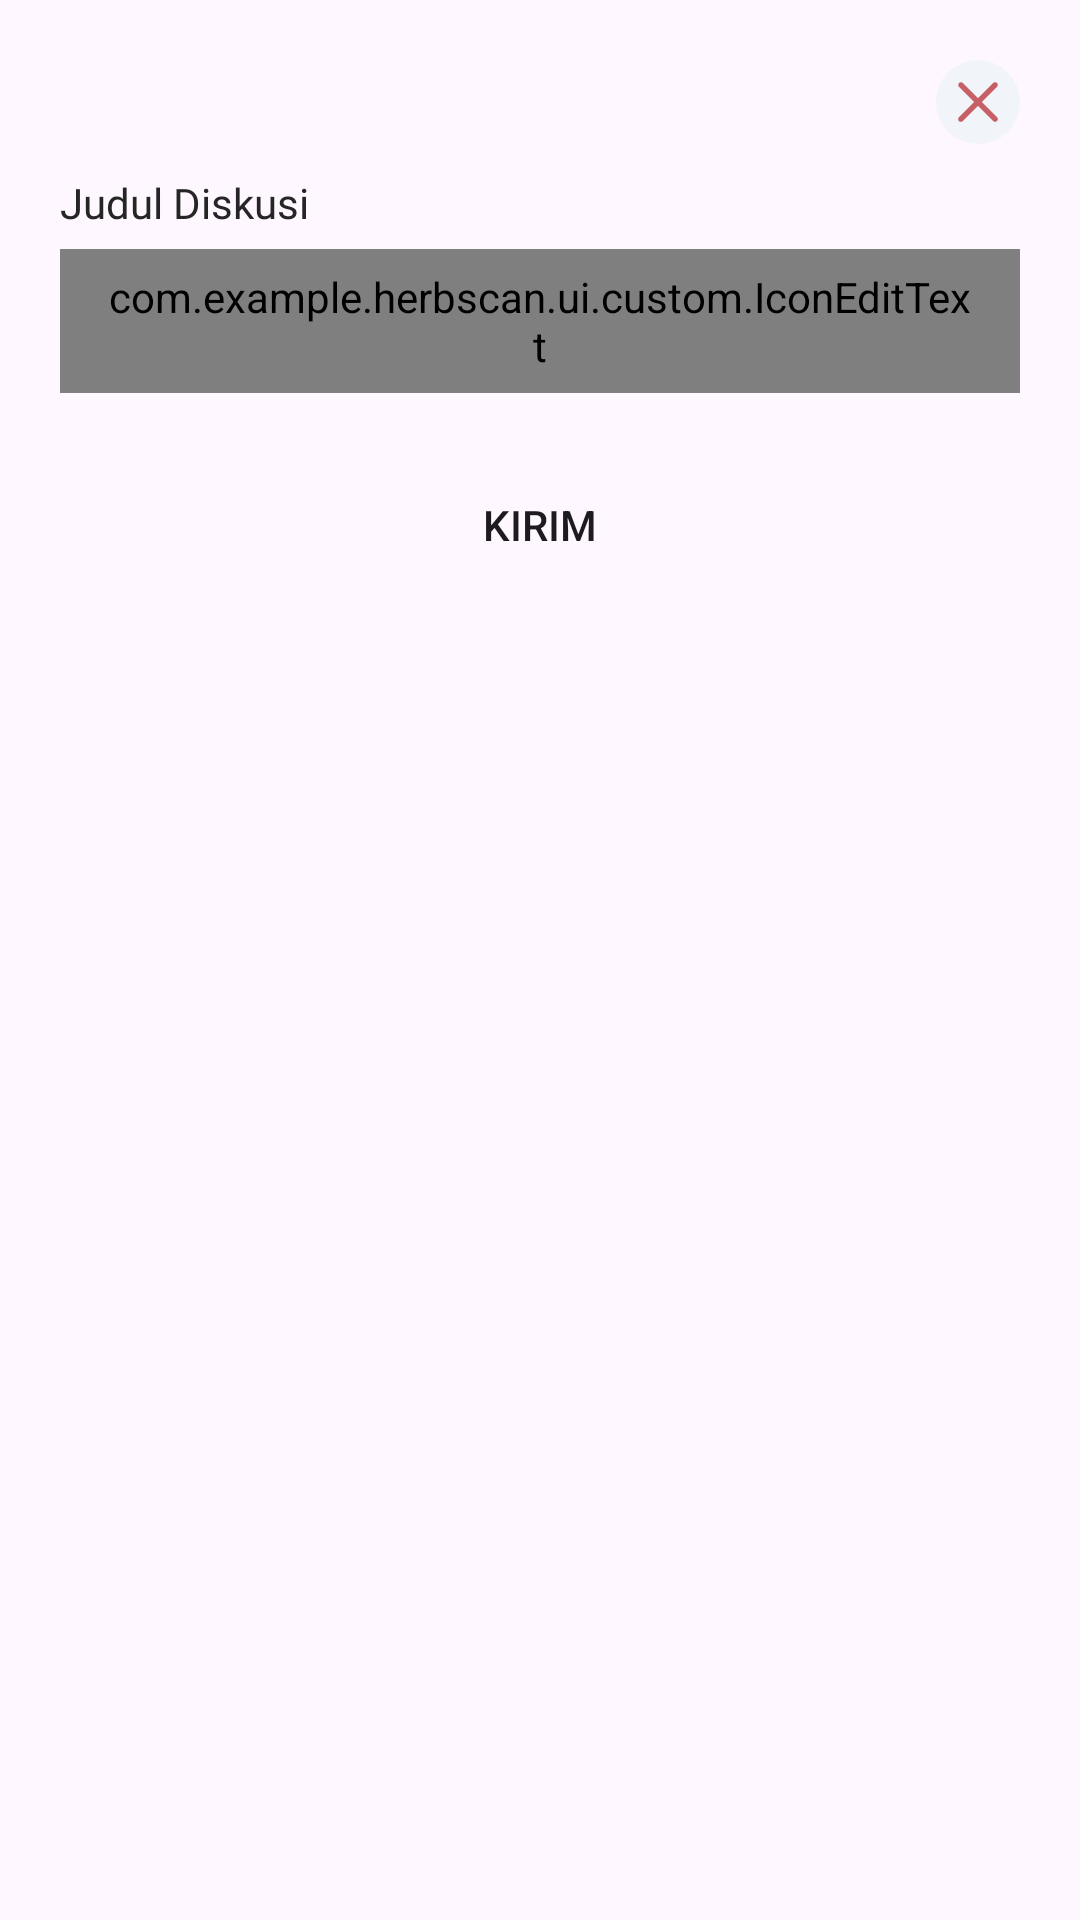

Screen size 1080w x 1920h. Icon name, then its center in pixels as [x,y]:
Ikon Tutup: [978,102]
